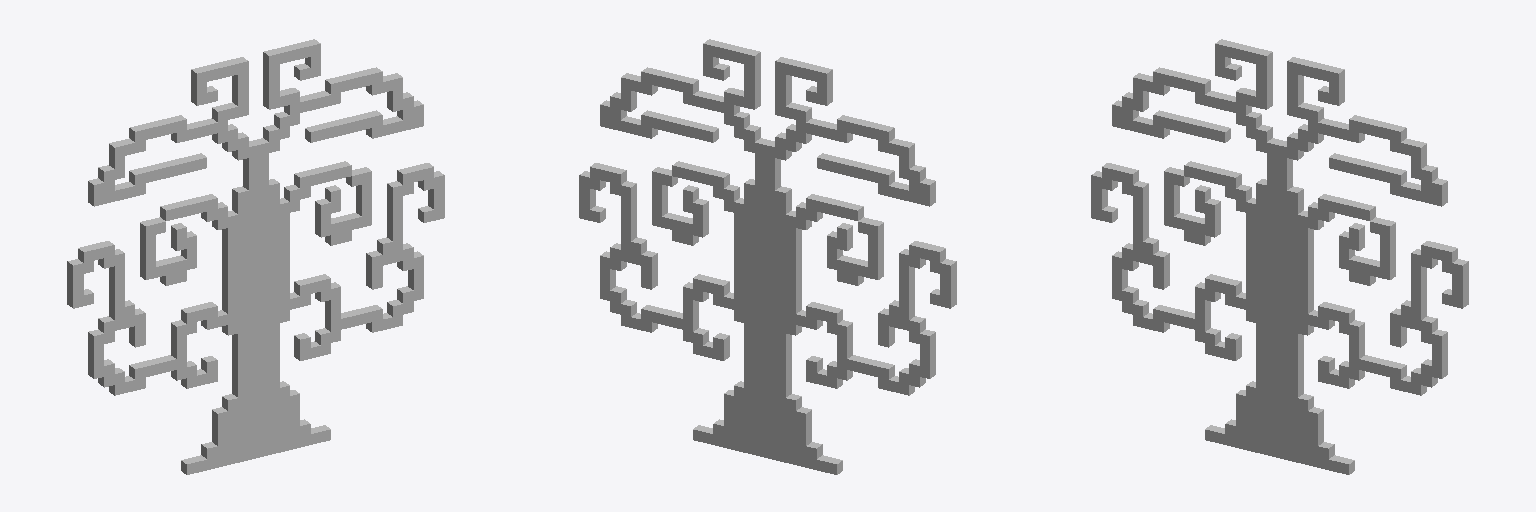
File: tree1.obj
The picture shows the model from 3 angles: view 1: azimuth 30°, elevation 25°; view 2: azimuth 150°, elevation 25°; view 3: azimuth 330°, elevation 25°; orthographic projection.
Visible parts, largest first — view 1: object 1; view 2: object 1; view 3: object 1.
Part boxes in pixels (x1,y1,x2,y2): object 1: (67,39,444,474); object 1: (579,39,956,474); object 1: (1091,39,1468,474).
Bounding box in the file's own units: 3.6 × 3.7 × 0.1.